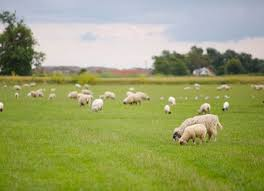sheep: (173, 110, 221, 146), (178, 124, 209, 149), (122, 95, 143, 107), (216, 100, 234, 112), (198, 98, 209, 116), (91, 99, 104, 114), (136, 89, 151, 102), (76, 94, 92, 106), (83, 88, 98, 99), (100, 90, 115, 100), (164, 103, 175, 115), (68, 89, 81, 98), (29, 89, 42, 97), (191, 81, 201, 90), (10, 82, 22, 89), (12, 92, 21, 101), (167, 95, 177, 102), (220, 84, 229, 90), (49, 93, 55, 101)
